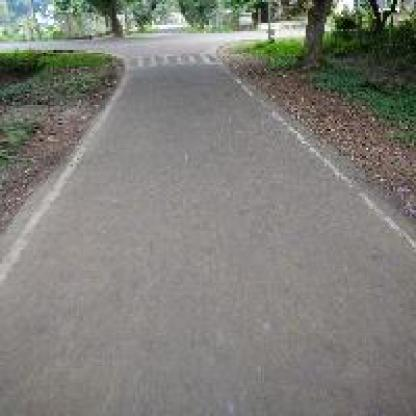Speed Bump: (131, 50, 216, 71)
